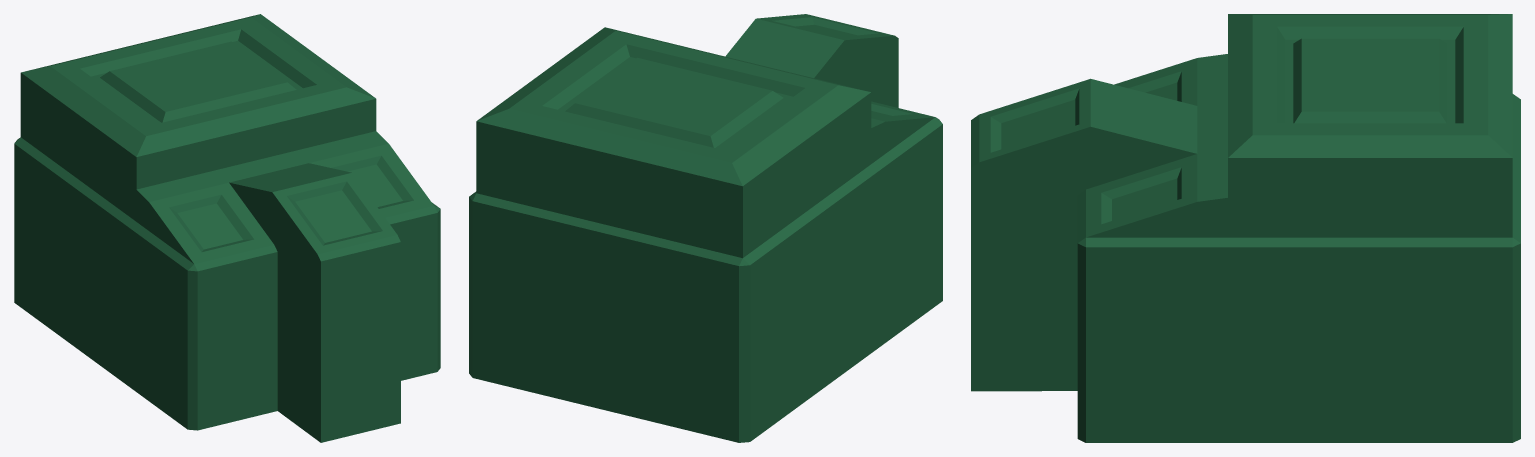
Rendered from 007_Secretbuilding.FBX.
3 renders of one model, left to right at view 1: azimuth 30°, elevation 25°; view 2: azimuth 150°, elevation 25°; view 3: azimuth 270°, elevation 25°, orthographic. The views are drawn at different scales.
Visible parts, largest first — view 1: Object003; view 2: Object003; view 3: Object003.
Part boxes in pixels (x1=…): Object003: x1=14, y1=14, x2=440, y2=442; Object003: x1=469, y1=14, x2=942, y2=442; Object003: x1=971, y1=14, x2=1520, y2=442.
Size of the model in its own units: 56.3 by 50.53 by 86.15.
